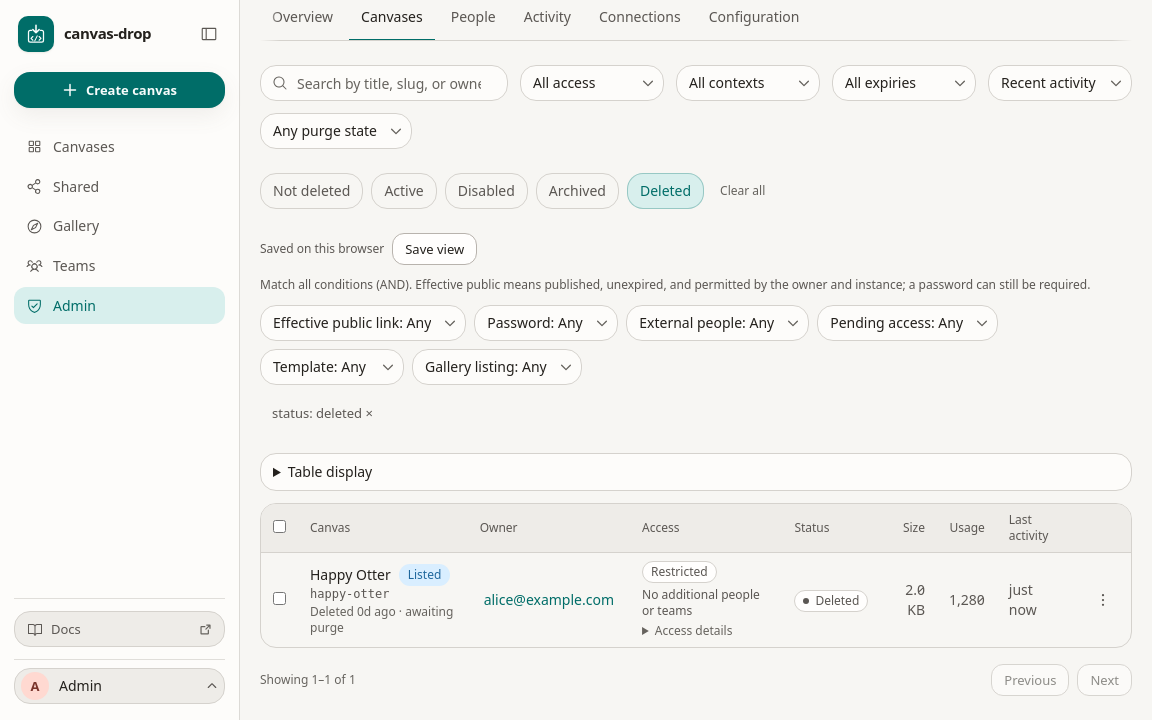
Test: admin dashboard › shows purge in deleted row actions and explains real-file removal and retention
The image size is (1152, 720).
(page scrolled)
Click the button named "Actions for Happy Otter" at x=1103, y=600, box [1087,584,1119,616]
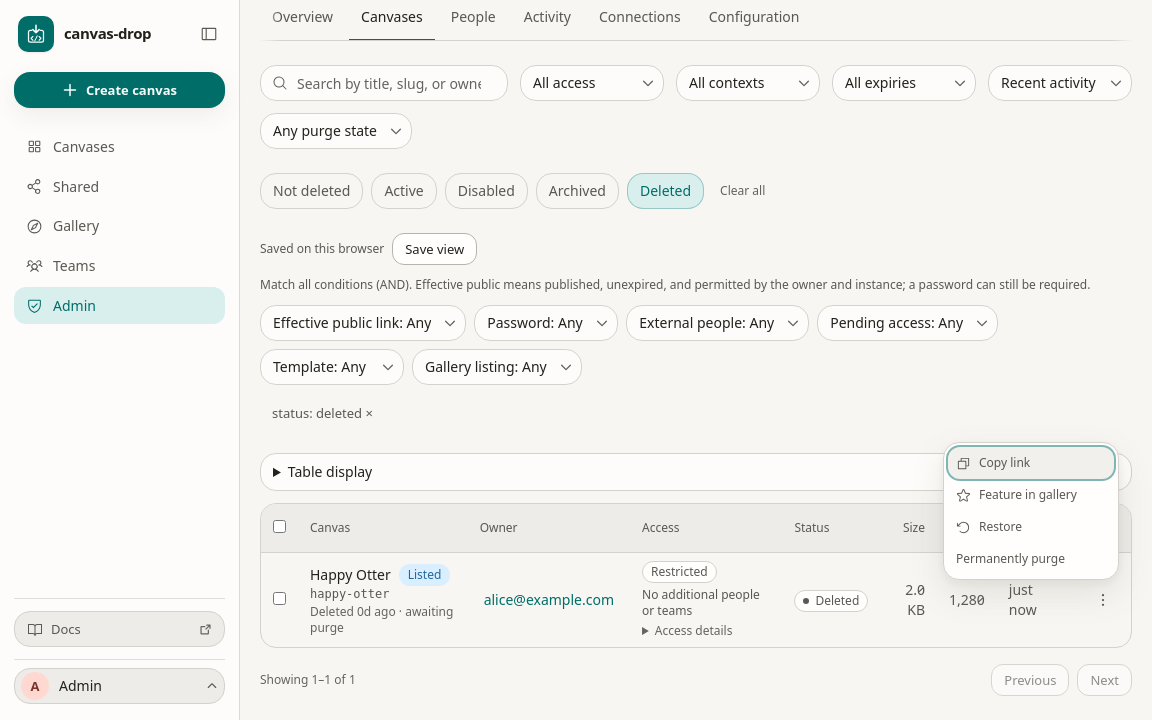
Click the menu item "Permanently purge" at x=1031, y=559, box [948,543,1114,575]
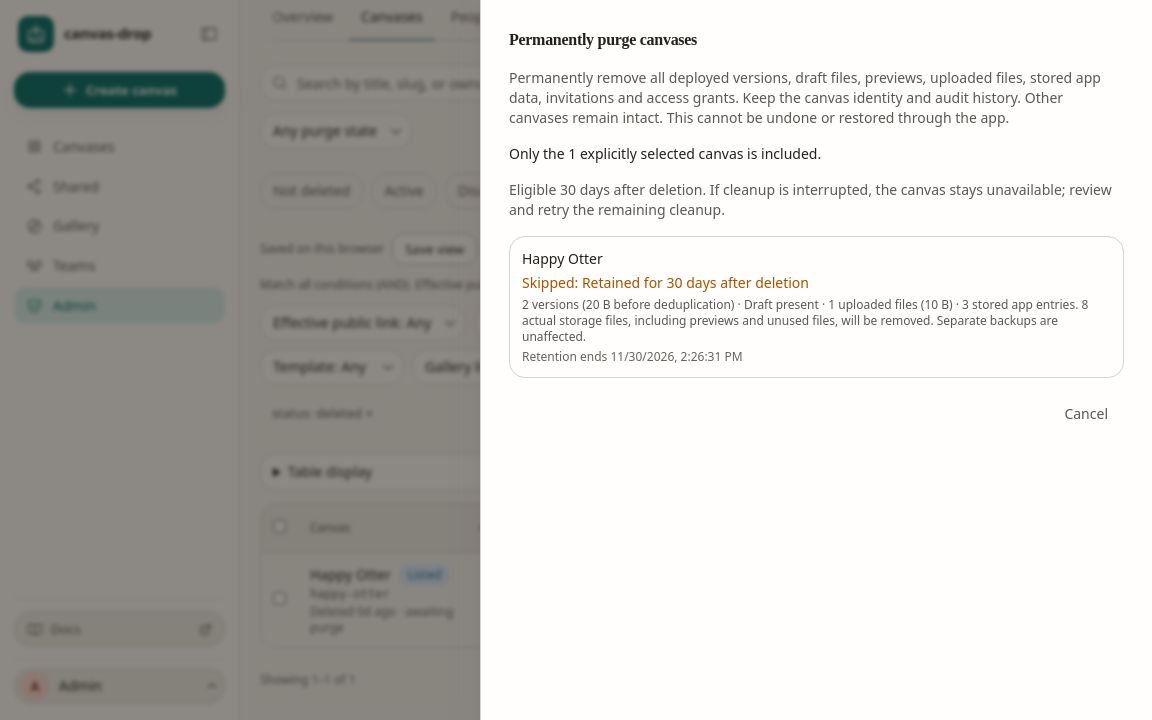
Now the text "8 actual storage files" is shown, box [522,297,1111,345]
Now the text "Skipped: Retained for 30 days after deletion" is shown, box [522,273,809,292]
